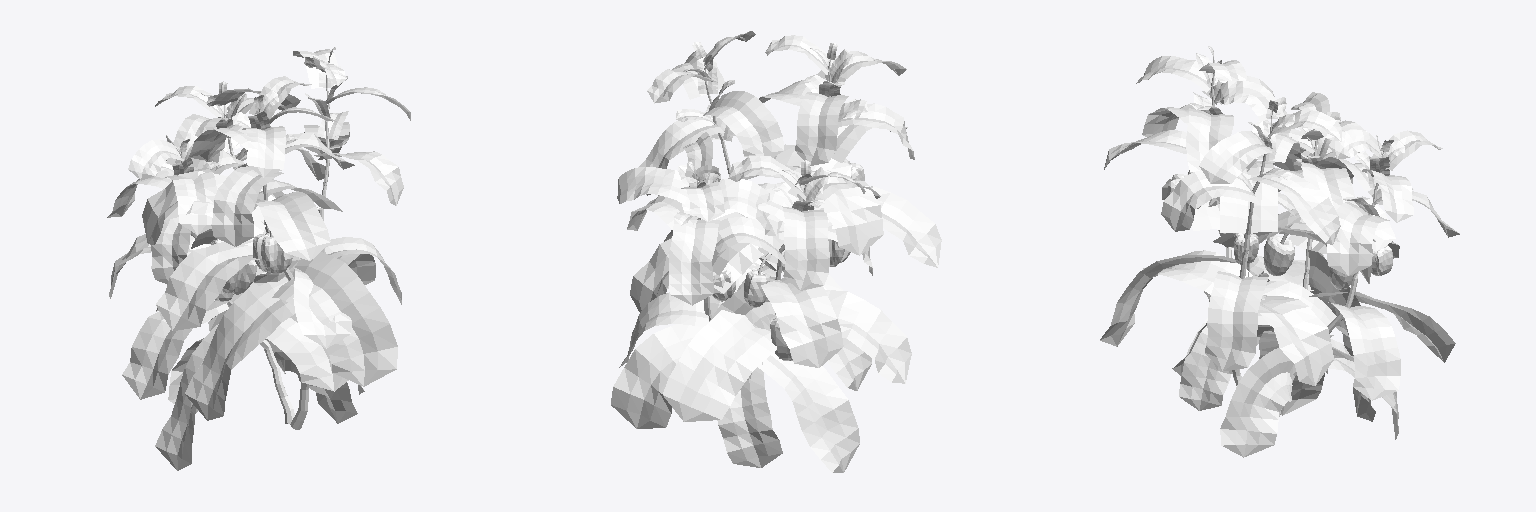
The picture shows the model from 3 angles: view 1: azimuth 30°, elevation 25°; view 2: azimuth 150°, elevation 25°; view 3: azimuth 270°, elevation 25°; orthographic projection.
Visible parts, largest first — view 1: VG07_7; view 2: VG07_7; view 3: VG07_7.
Boxes of the visible parts, <box> form: VG07_7: <box>107,47,410,470</box>; VG07_7: <box>611,31,941,472</box>; VG07_7: <box>1100,46,1459,457</box>.
Bounding box in the file's own units: 0.5219 × 0.7645 × 0.6334.